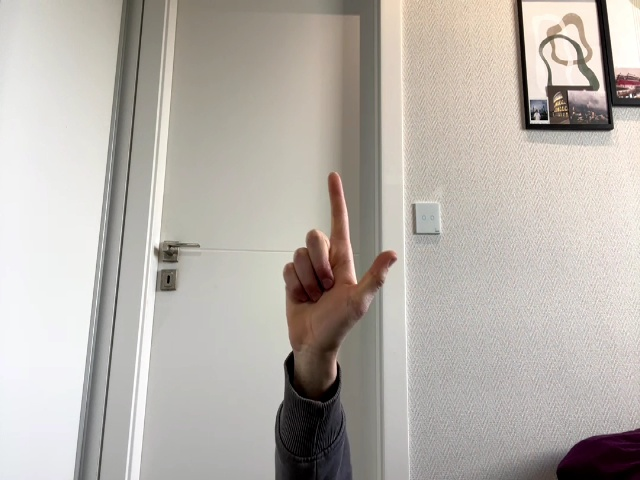L: (283, 172, 398, 362)
